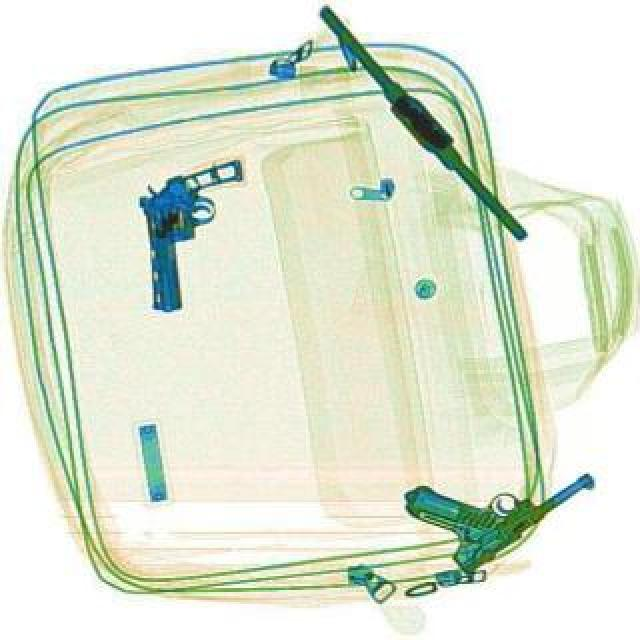gun: (396, 434, 612, 582), (132, 158, 256, 314)
